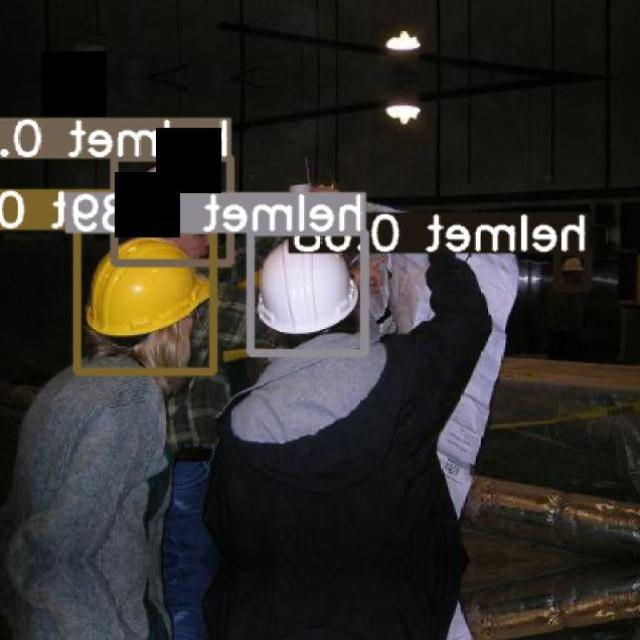helmet: (86, 237, 212, 337), (257, 237, 359, 335)
